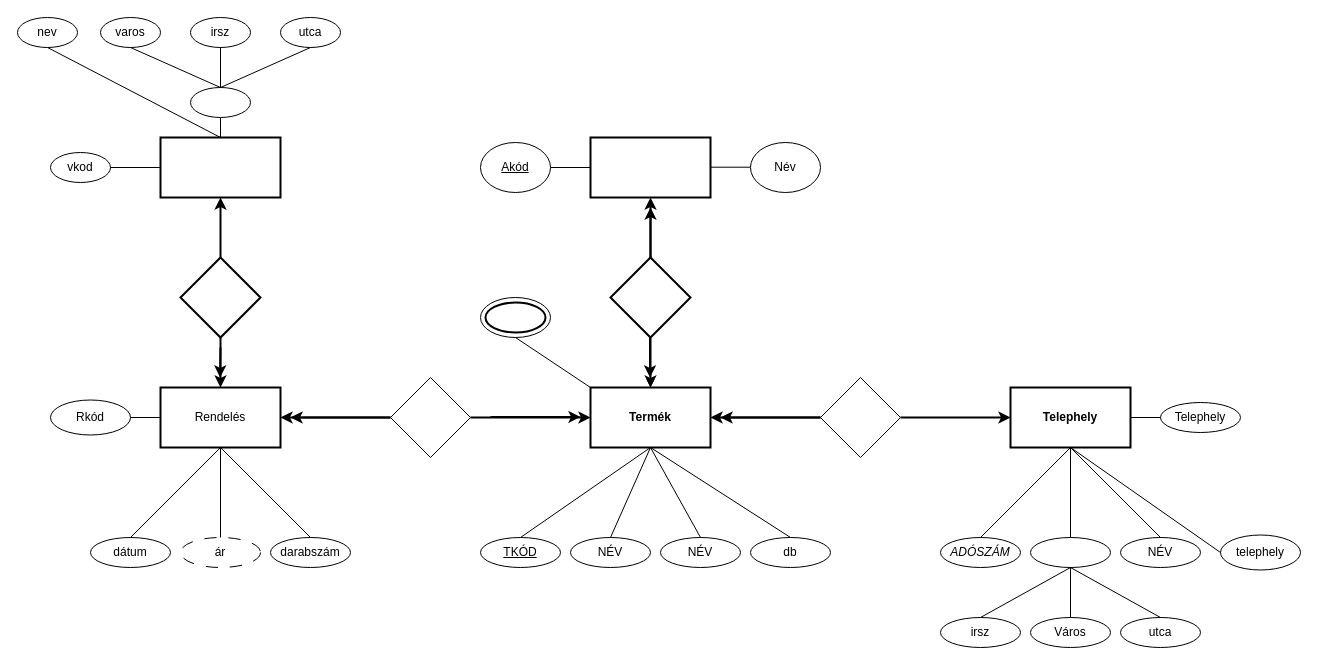
Some shapes in this 1318 by 665 pixel diagram are drawn without their labels. The box of each missing label's shape, as (x1, y1, x2, y2) in pixels:
Alkatrész: (589, 136, 711, 198)
egység_ár: (484, 301, 546, 333)
lakcím: (190, 86, 250, 118)
Postacím: (1030, 536, 1110, 568)
R-T: (390, 376, 470, 458)
R_V: (179, 256, 261, 338)
T-GY: (820, 376, 900, 458)
T_A: (609, 256, 691, 338)
Vevo: (159, 136, 281, 198)
